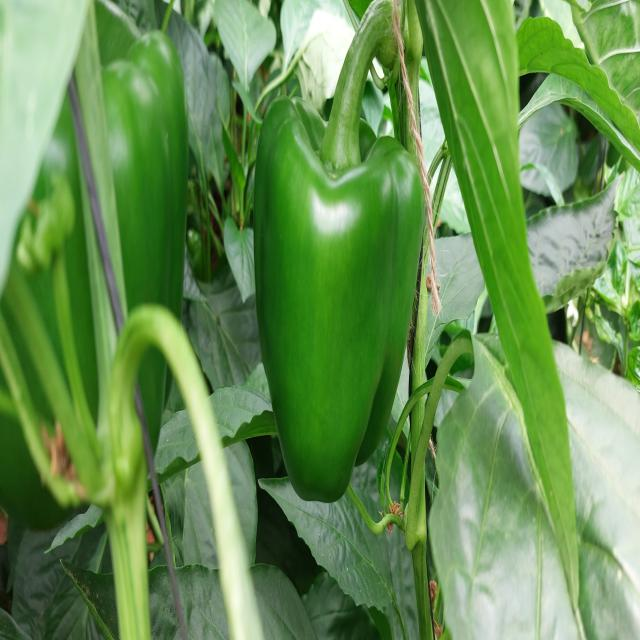Green--Not-ready-to-harvest: (1, 38, 175, 519), (262, 93, 413, 510)
